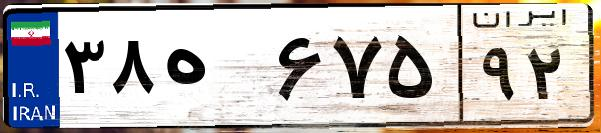2: (525, 38, 570, 115)
3: (57, 26, 110, 100)
5: (385, 28, 445, 110)
6: (270, 28, 330, 110)
7: (330, 28, 385, 110)
8: (110, 28, 158, 98)
9: (475, 38, 525, 113)
ه: (158, 20, 270, 120)
